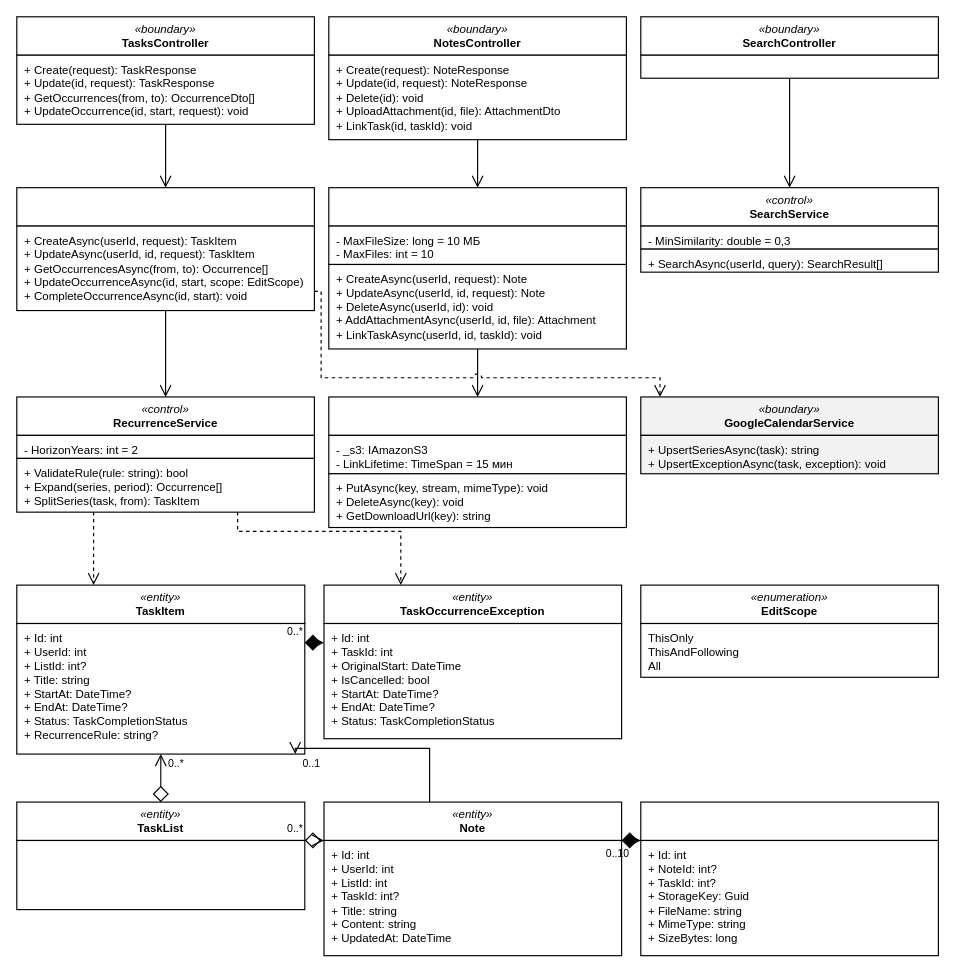
This 956x973 diagram has some shape labels left out. The centre of each missing label's shape, as x and y in pixels:
"+ Id: int + UserId: int + Name: string + Color: string" belongs at point 160,874.
"+ Search(q: string): SearchResultDto[]" belongs at point 789,66.
"«boundary» AttachmentStorage" belongs at point 477,415.
"«control» NoteService" belongs at point 477,206.
"«control» TaskService" belongs at point 165,206.
"«entity» Attachment" belongs at point 789,821.
